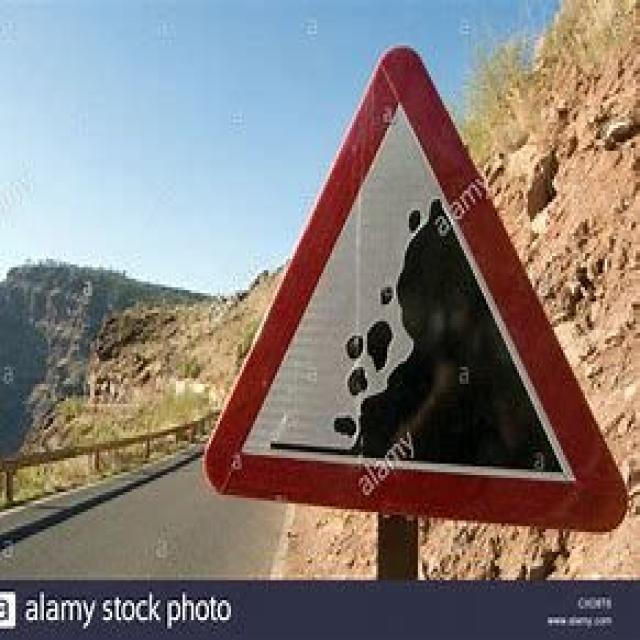falling rocks: (206, 39, 613, 528)
